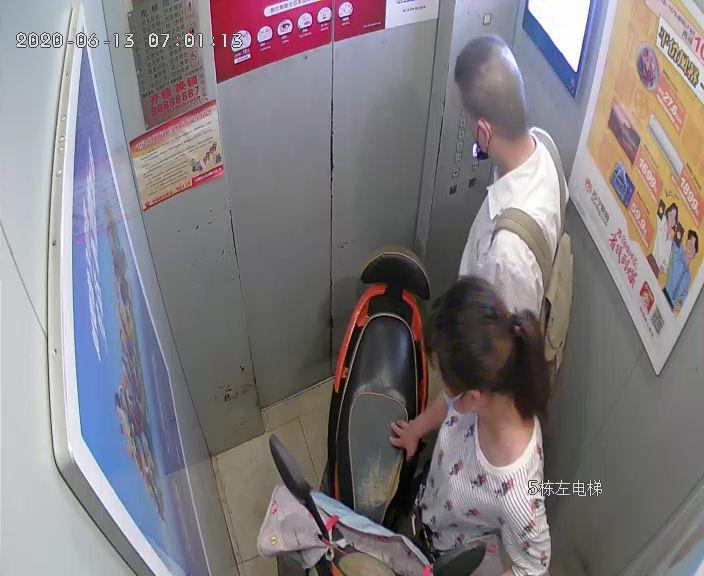Electric-bicycle: (267, 242, 486, 575)
